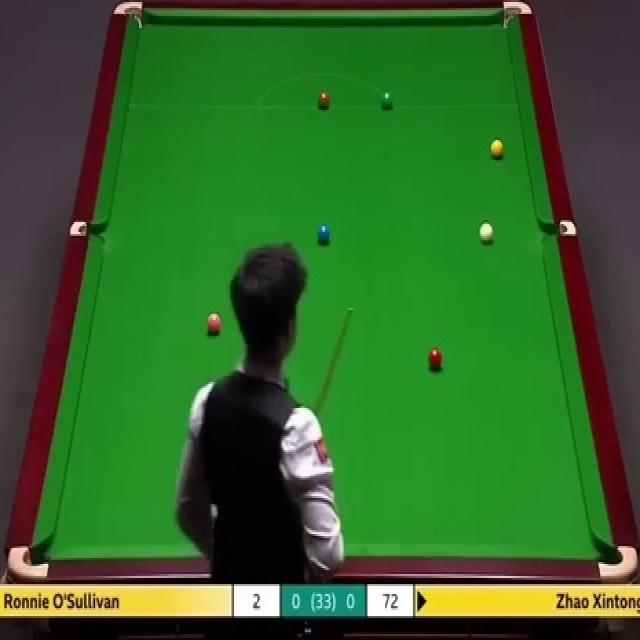pocket: (597, 542, 639, 584), (10, 543, 48, 585), (502, 0, 532, 32), (114, 1, 143, 28), (540, 218, 576, 237), (67, 220, 105, 235)
